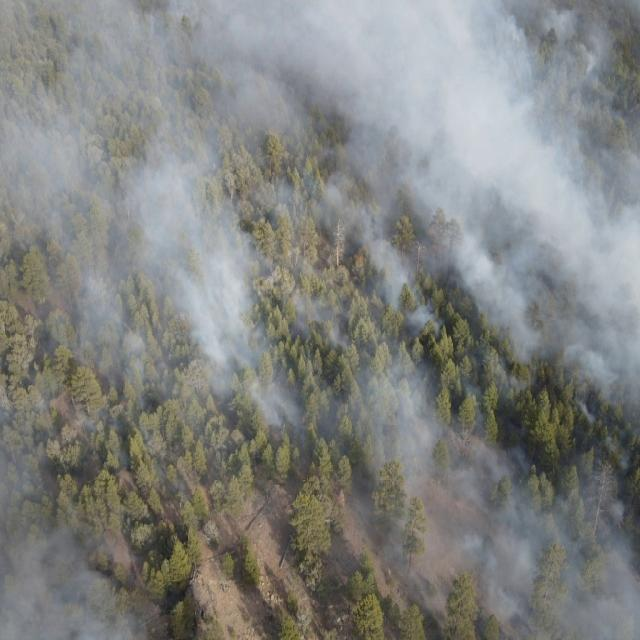fire: (353, 253, 368, 267), (120, 399, 130, 409)
smoke: (0, 0, 640, 421), (333, 422, 640, 640), (0, 422, 144, 640), (135, 418, 197, 511)
